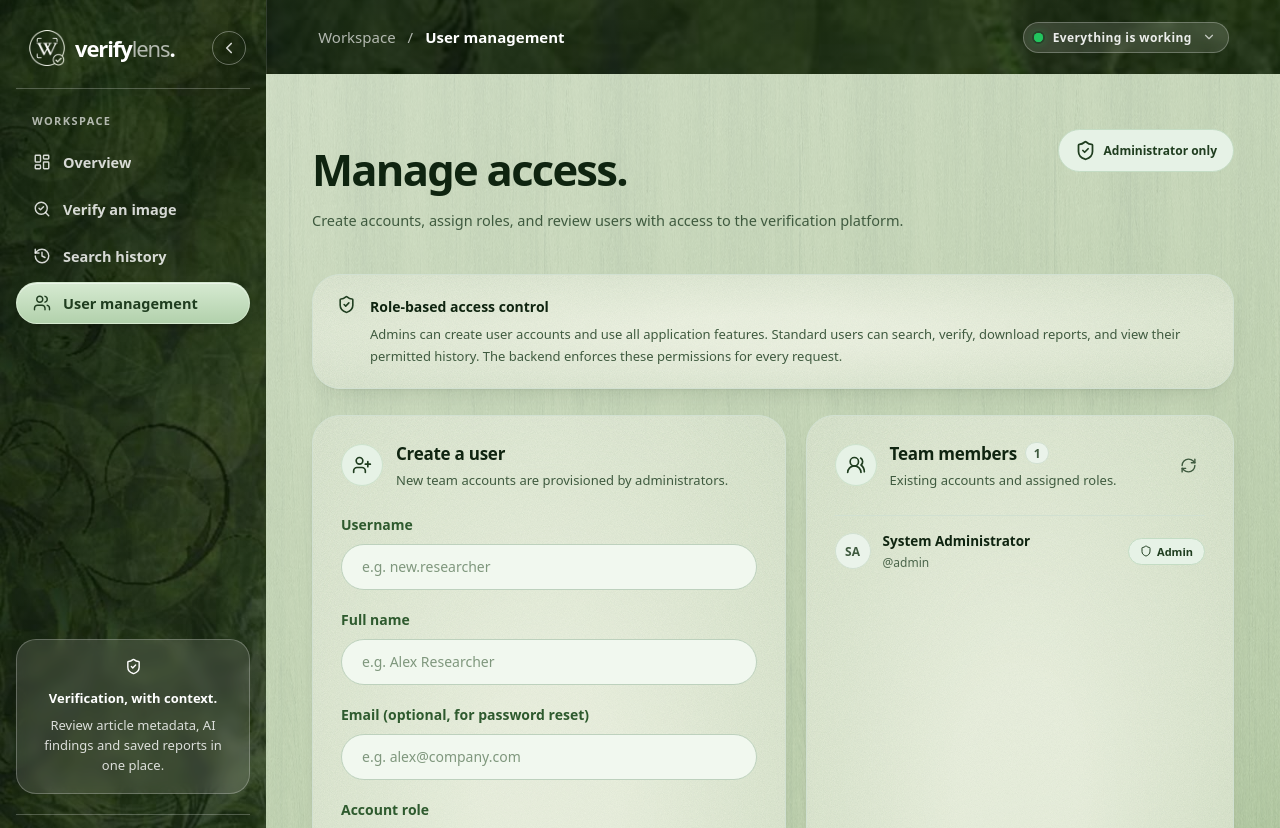
Scenario: admin › creates an account and refreshes the team list
The width and height of the screenshot is (1280, 828).
Check: the heading "Manage access." is shown, box [312, 139, 627, 199]
In the field labelled "Username": coordinates (549, 567) [341, 544, 756, 590], type "new.person"
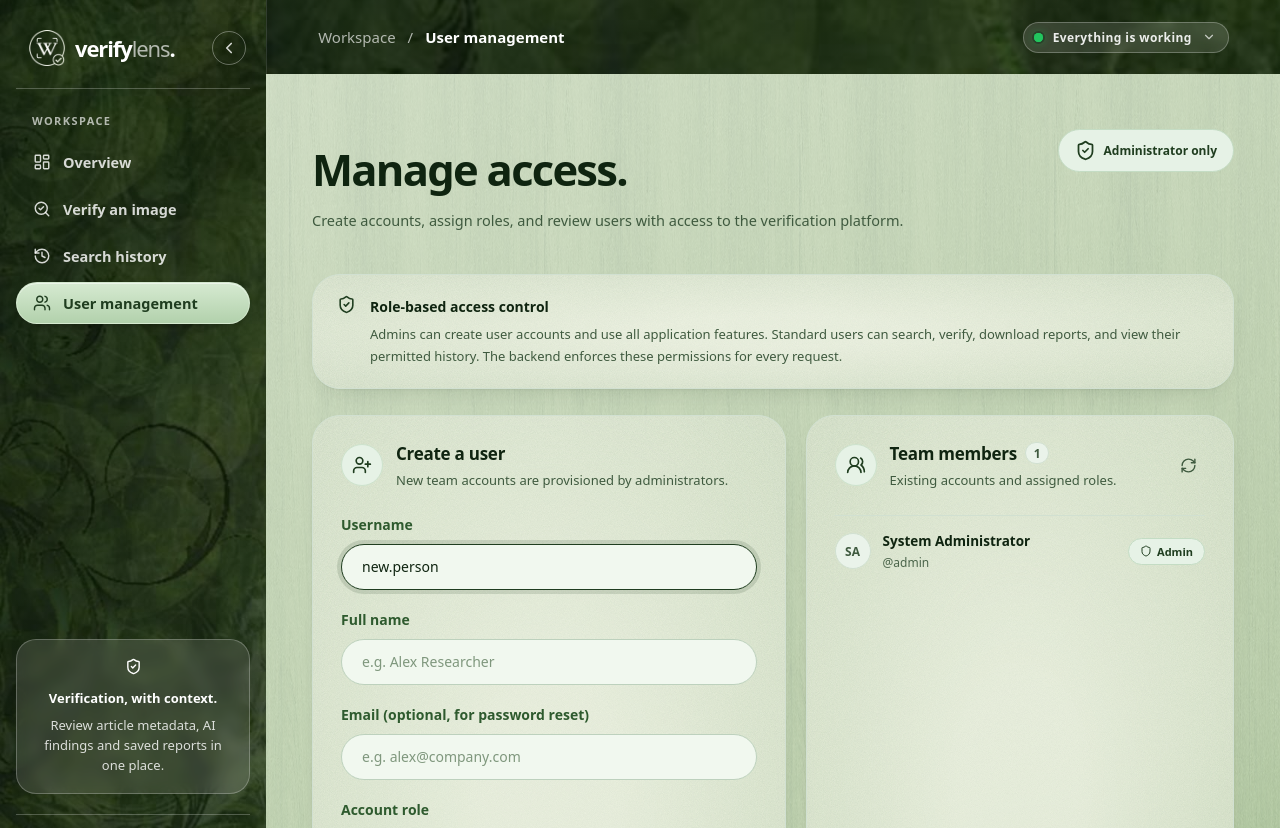
In the field labelled "Full name": coordinates (549, 662) [341, 639, 756, 685], type "New Person"
(page scrolled)
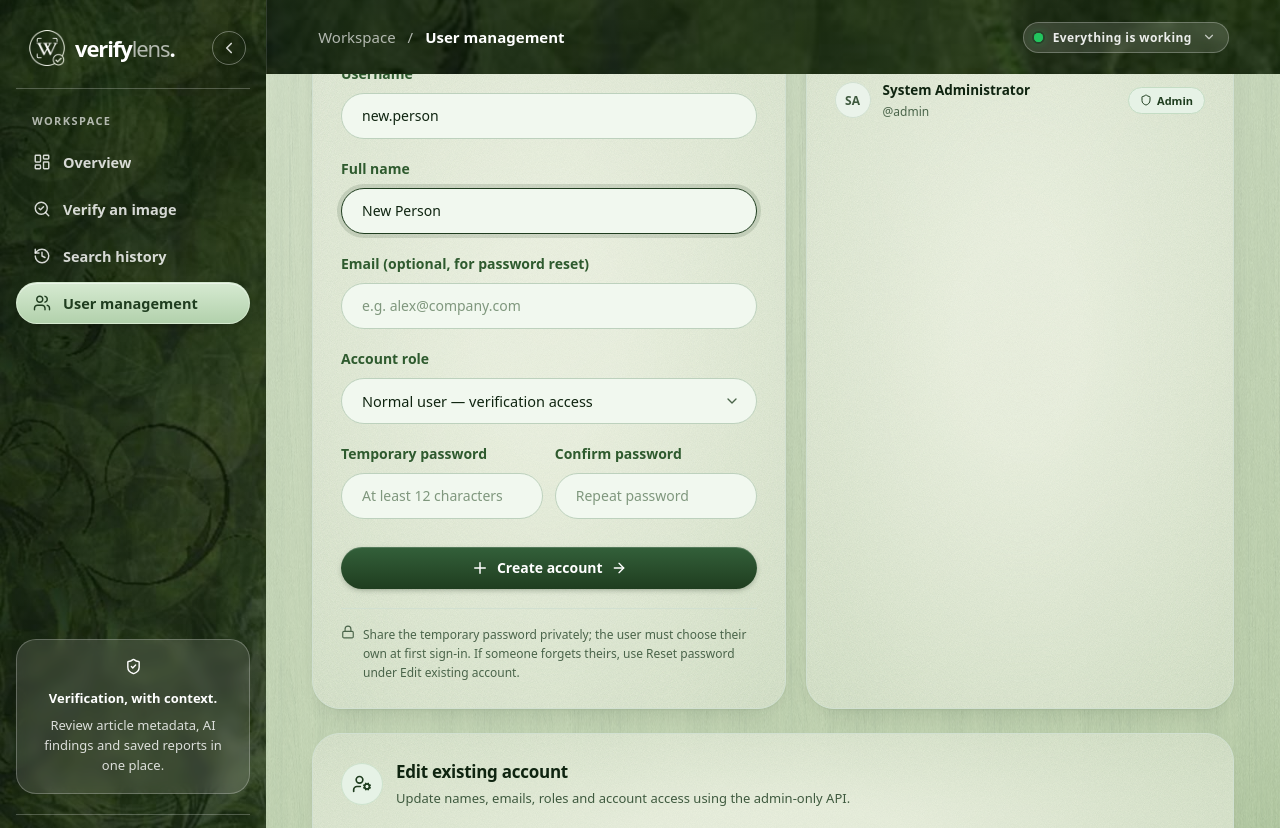
In the password field labelled "Temporary password": coordinates (442, 496) [341, 473, 543, 519], type "Temporary-pass-1"
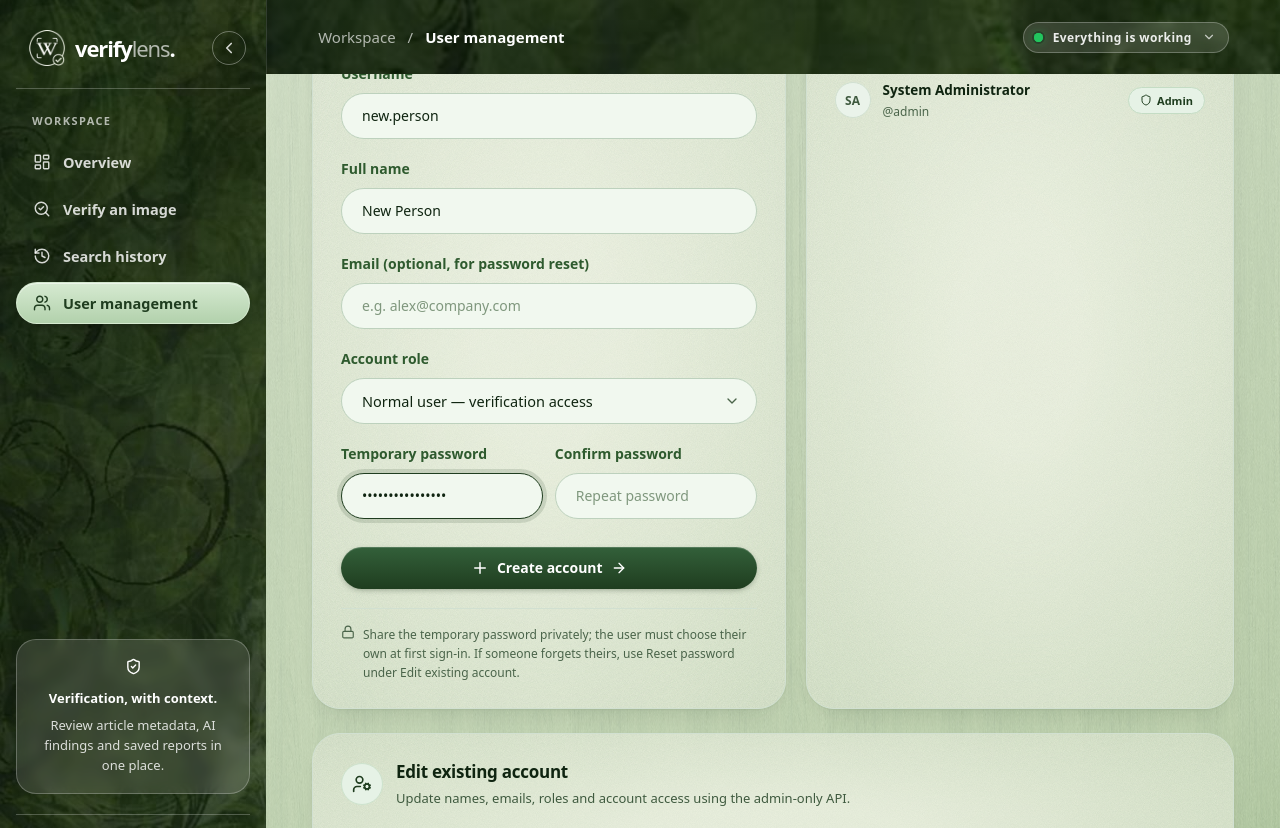
In the password field labelled "Confirm password": coordinates (656, 496) [555, 473, 757, 519], type "Temporary-pass-1"
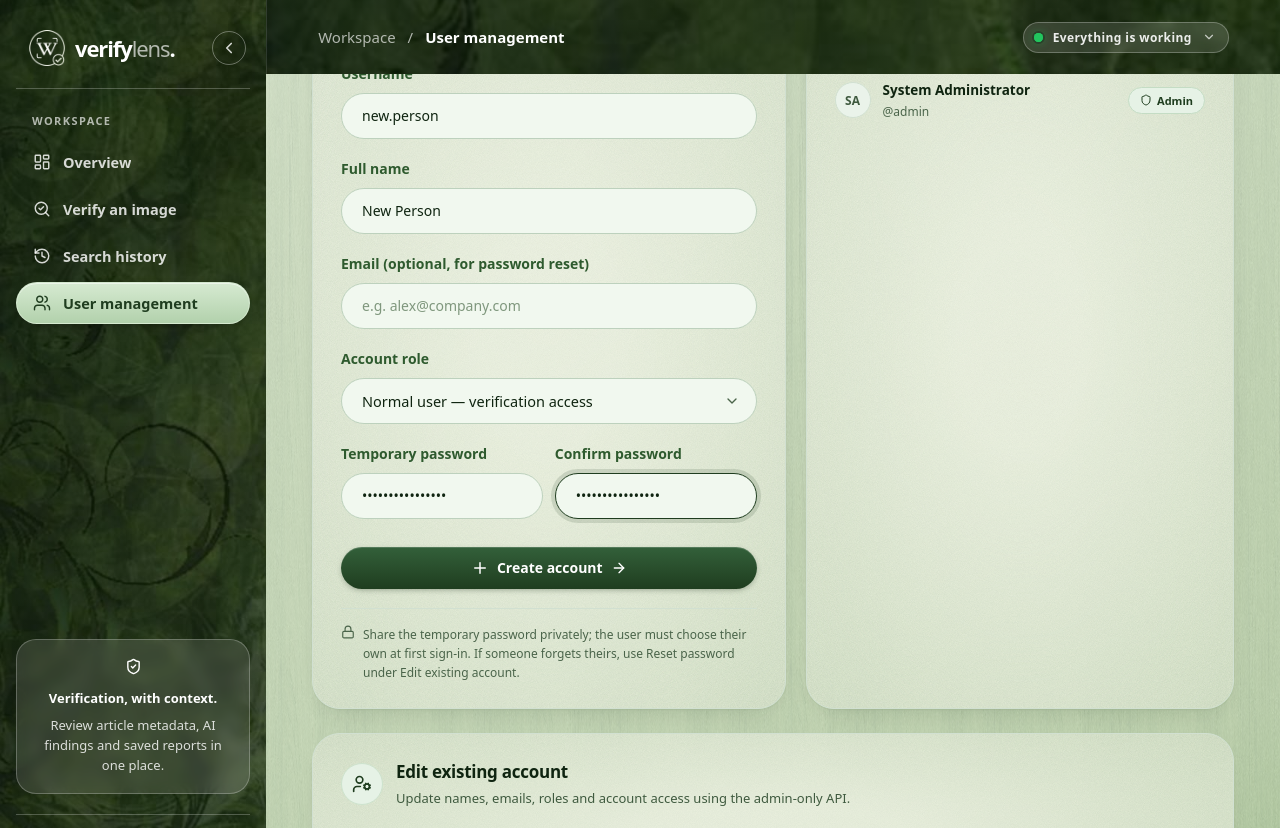
Click the button "Create account": coordinates (549, 568) [341, 547, 756, 589]
(page scrolled)
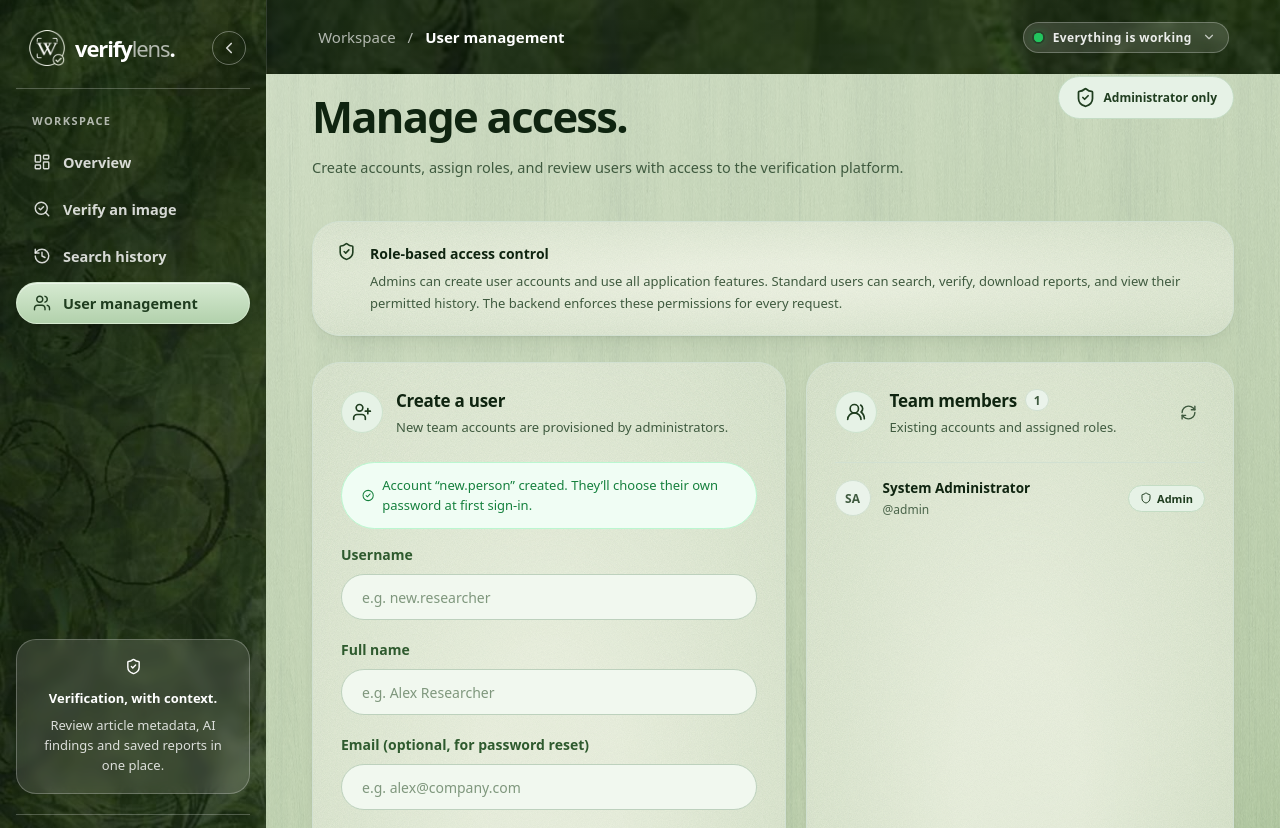
Check: the text "Account “new.person” created" is shown, box [382, 476, 718, 514]
